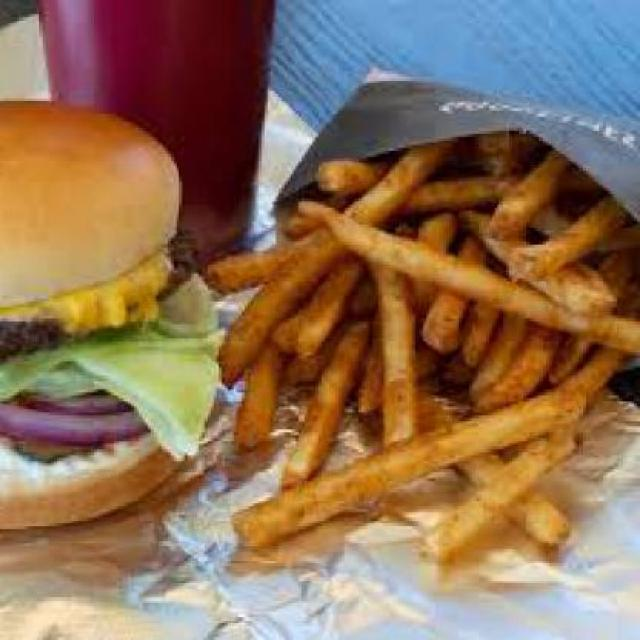hamburger: (2, 85, 222, 541)
